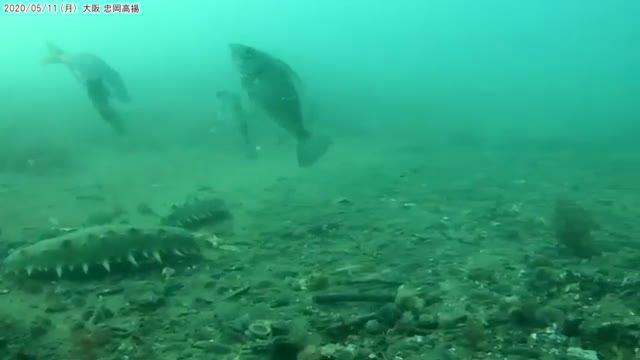smallfish: (221, 39, 341, 169), (45, 41, 133, 112)
